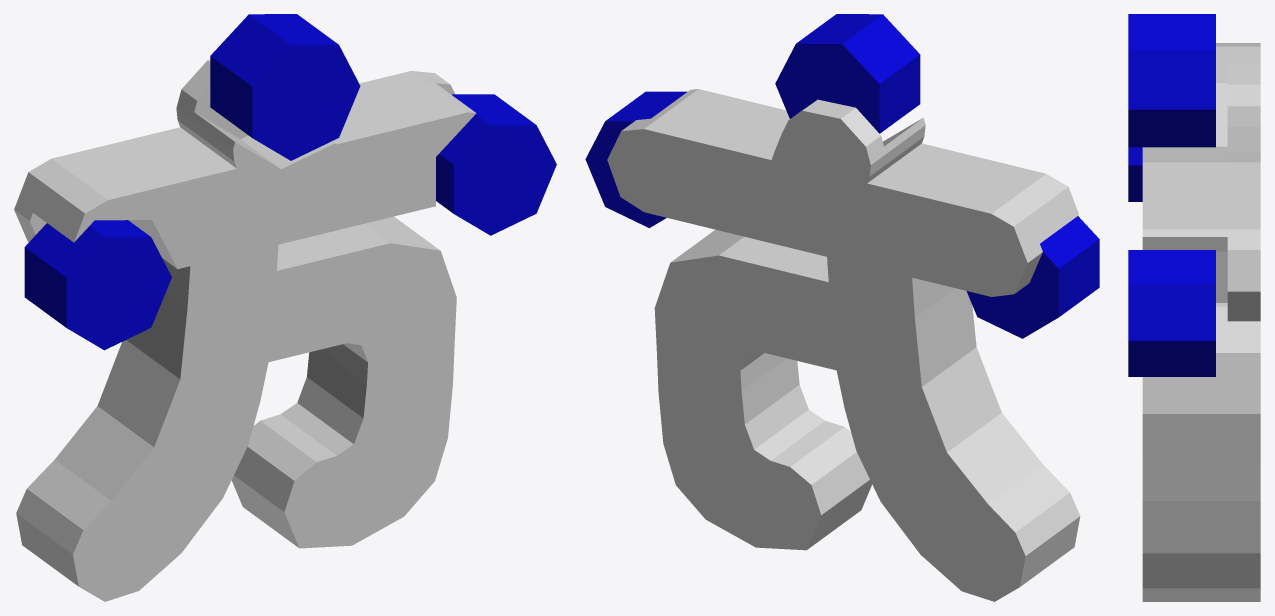
The model's file is Ch_Lite_China_方_01.fbx.
3 views of the same model, side by side, from view 1: azimuth 30°, elevation 25°; view 2: azimuth 150°, elevation 25°; view 3: azimuth 270°, elevation 25° (orthographic). The views are drawn at different scales.
Parts seen in each view (by area): view 1: sphere1; view 2: sphere1; view 3: sphere1.
Boxes of the visible parts, left/top/right/bottom form: sphere1: left=14, top=14, right=556, bottom=601; sphere1: left=585, top=14, right=1099, bottom=601; sphere1: left=1128, top=14, right=1260, bottom=601.
Size of the model in its own units: 0.998 by 1.02 by 0.2242.
